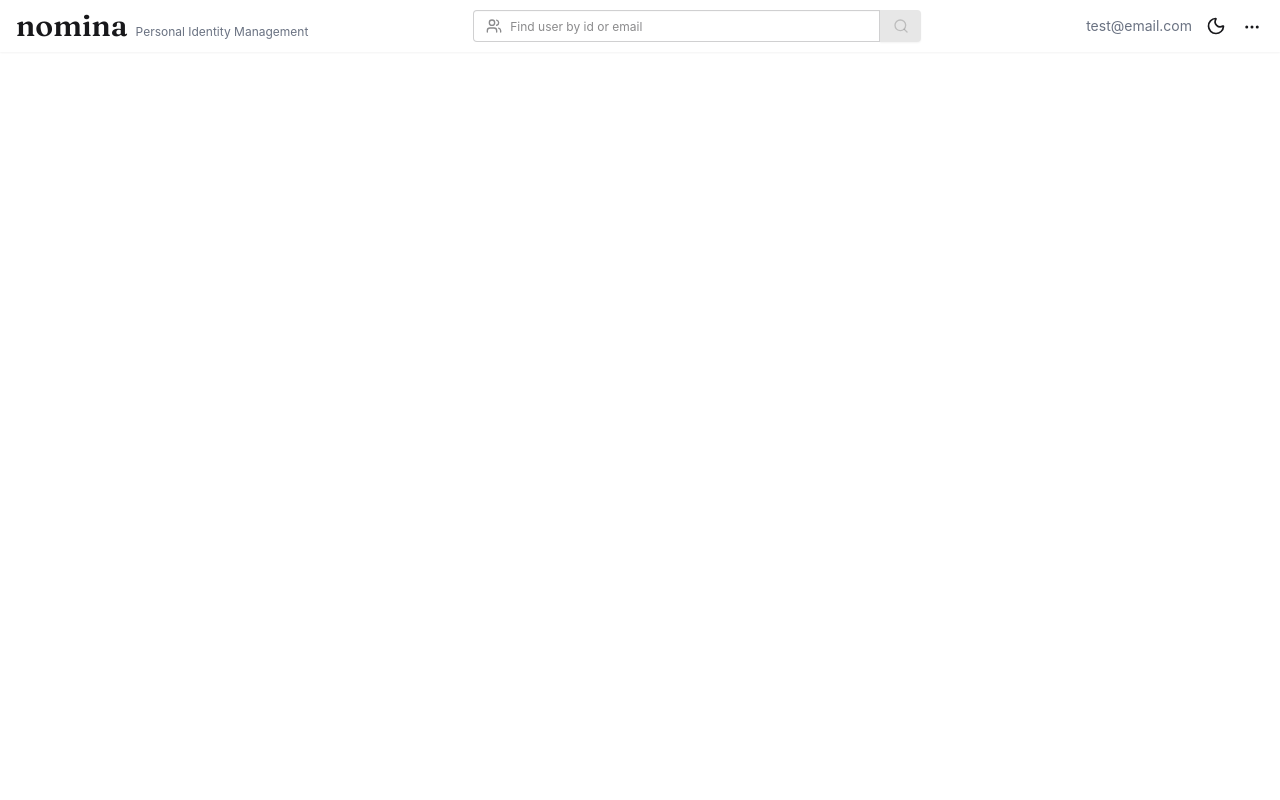
Test case: Header › navigates to the user id on search
Type "11111111-1111-1111-1111-111111111111" into the search field with placeholder "Find user by id or email".
click(689, 26); type("11111111-1111-1111-1111-111111111111")  # box 510,11 -> 867,41
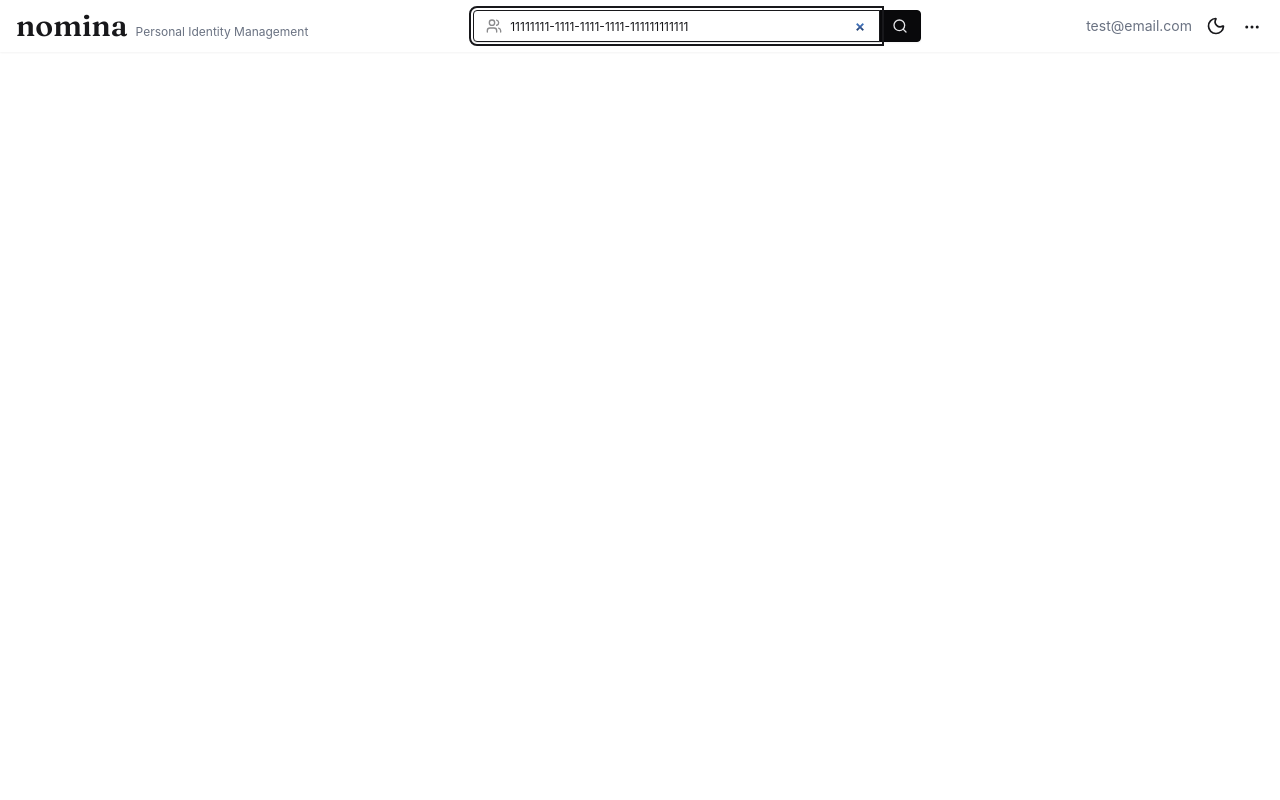
Click the button named "Search".
click(900, 26)  # box 879,10 -> 921,42
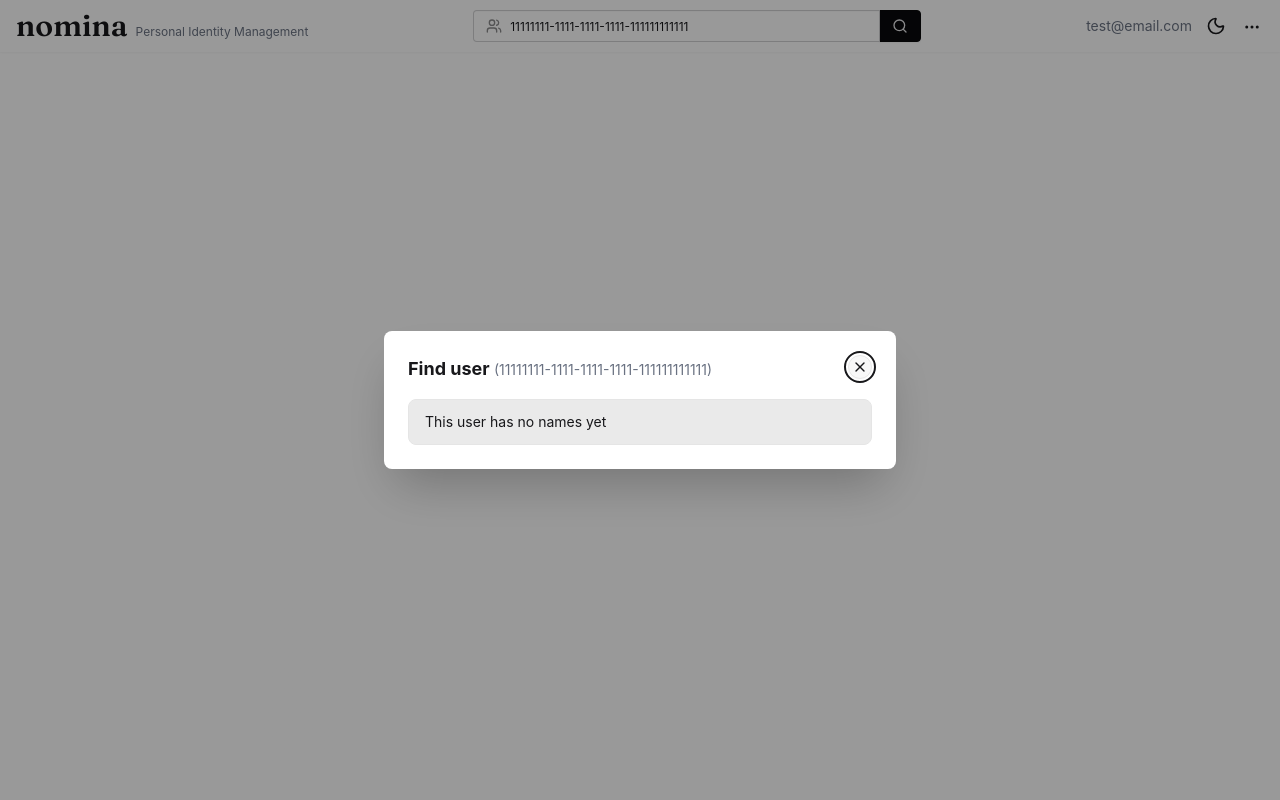
Result: the heading "Find user (11111111-1111-1111-1111-111111111111)" is shown at 408,355 -> 712,383
